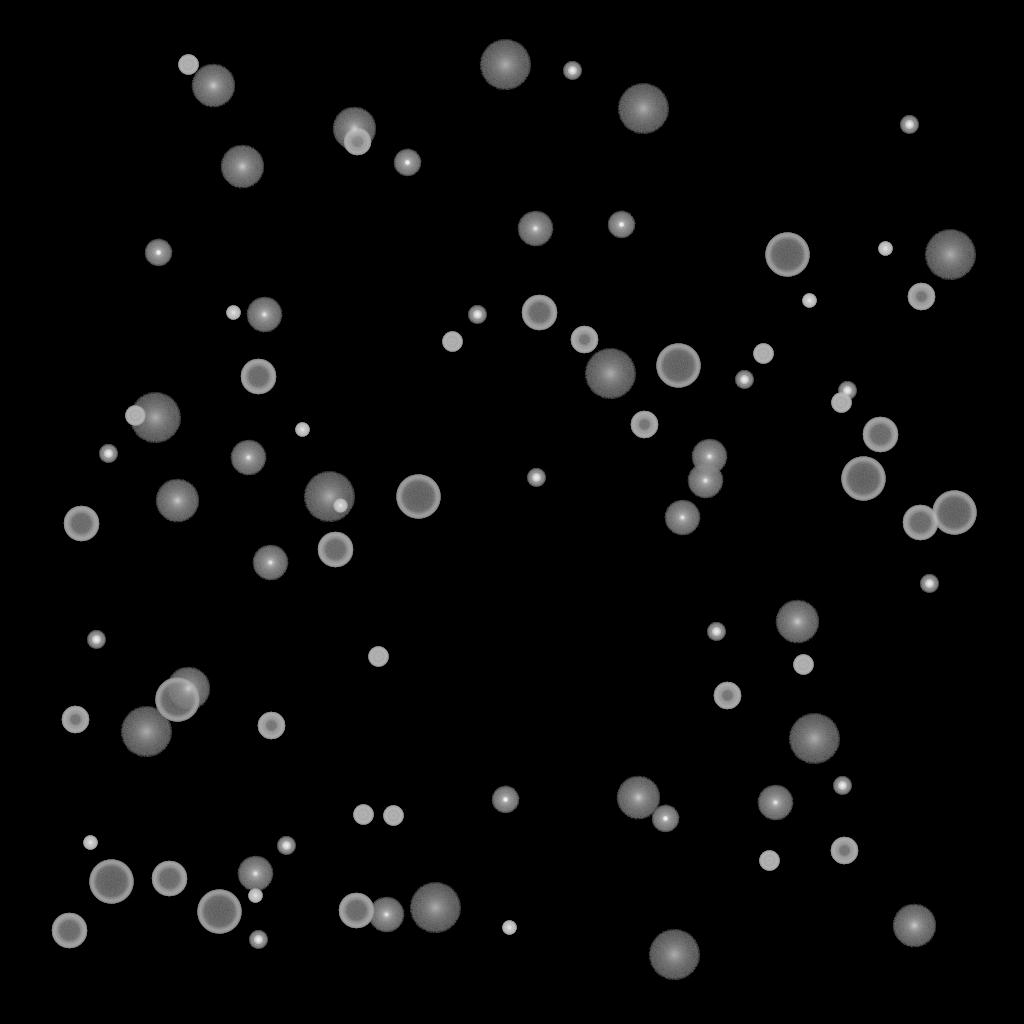depth:-10: (607, 211, 635, 239), (144, 239, 172, 267), (491, 786, 519, 814), (651, 805, 679, 833), (393, 149, 421, 177)
depth:-20: (249, 931, 267, 949), (468, 306, 486, 324), (527, 469, 545, 487), (707, 623, 725, 641), (900, 116, 918, 134), (563, 62, 581, 80), (735, 371, 753, 389), (838, 382, 856, 400), (277, 837, 295, 855), (87, 631, 105, 649), (99, 445, 117, 463), (833, 777, 851, 795), (920, 575, 938, 593)
depth:-30: (226, 306, 240, 320), (248, 889, 262, 903), (83, 836, 97, 850), (802, 294, 816, 308), (878, 242, 892, 256), (295, 423, 309, 437), (502, 921, 516, 935), (333, 499, 347, 513)
depth:-40: (368, 647, 388, 667), (831, 393, 851, 413), (442, 332, 462, 352), (759, 851, 779, 871), (353, 805, 373, 825), (383, 806, 403, 826), (793, 655, 813, 675), (753, 344, 773, 364), (178, 55, 198, 75), (125, 406, 145, 426)
depth:-50: (713, 682, 741, 710), (907, 283, 935, 311), (830, 837, 858, 865), (343, 128, 371, 156), (630, 411, 658, 439), (257, 712, 285, 740), (61, 706, 89, 734), (570, 326, 598, 354)
depth:-60: (317, 532, 353, 568), (902, 505, 938, 541), (51, 913, 87, 949), (521, 295, 557, 331), (338, 893, 374, 929), (63, 506, 99, 542), (240, 359, 276, 395), (151, 861, 187, 897), (862, 417, 898, 453)
depth:-70: (89, 860, 133, 904), (197, 890, 241, 934), (932, 491, 976, 535), (155, 678, 199, 722), (841, 457, 885, 501), (765, 233, 809, 277), (396, 475, 440, 519), (656, 344, 700, 388)
depth:0: (237, 856, 273, 892), (687, 463, 723, 499), (230, 440, 266, 476), (664, 500, 700, 536), (757, 785, 793, 821), (252, 545, 288, 581), (691, 439, 727, 475), (517, 211, 553, 247), (246, 297, 282, 333), (368, 897, 404, 933)
depth:10: (892, 904, 936, 948), (332, 107, 376, 151), (616, 776, 660, 820), (191, 64, 235, 108), (155, 479, 199, 523), (220, 145, 264, 189), (166, 667, 210, 711), (775, 600, 819, 644)
depth:20: (584, 349, 636, 399), (409, 883, 461, 933), (617, 84, 669, 134), (303, 472, 355, 522), (788, 714, 840, 764), (479, 40, 531, 90), (648, 930, 700, 980), (129, 393, 181, 443), (924, 230, 976, 280), (120, 707, 172, 757)
